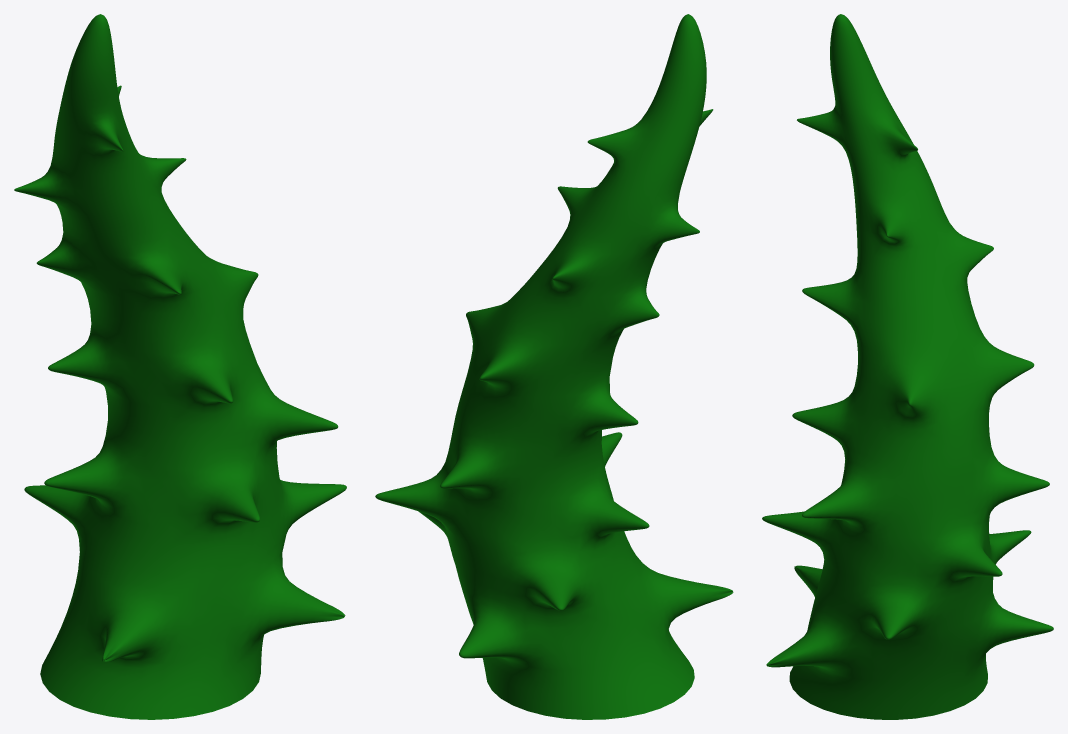
Rendered from Bramble_spike_1.FBX.
3 renders of one model, left to right at view 1: azimuth 30°, elevation 25°; view 2: azimuth 150°, elevation 25°; view 3: azimuth 270°, elevation 25°, orthographic. The views are drawn at different scales.
Parts seen in each view (by area): view 1: Brambles_Spike_1; view 2: Brambles_Spike_1; view 3: Brambles_Spike_1.
Boxes of the visible parts, x1,y1,x2,y2 form: Brambles_Spike_1: (14,14,346,719); Brambles_Spike_1: (375,14,733,719); Brambles_Spike_1: (762,14,1053,719).
Bounding box in the file's own units: 97.23 × 201 × 84.51.
